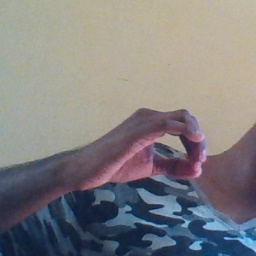O: (79, 103, 213, 190)
